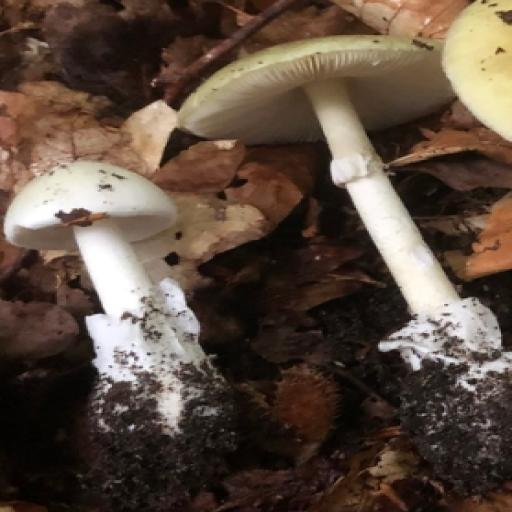mushroom: (177, 32, 458, 318), (0, 150, 181, 259), (69, 207, 162, 323)
